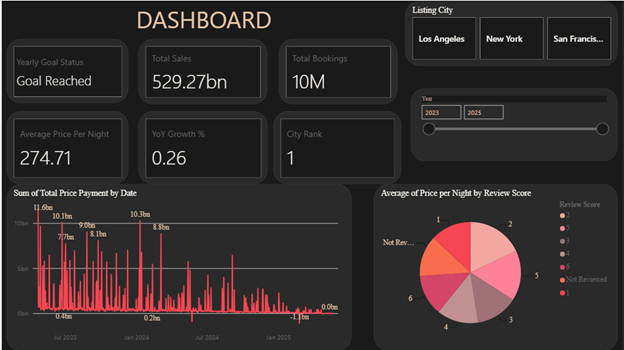

What the dashboard file says about the page in this screenshot:
{"tool":"powerbi","page":{"name":"Page 1","canvas":[1280,720],"ordinal":0},"visuals":[{"type":"cardVisual","fields":{"Data":["DimDate.Booking Price Tiers"]},"box":[9.5,79,251.3,132],"z":0},{"type":"cardVisual","fields":{"Data":["Measure.Total Sales"]},"box":[281.4,79,265.5,134.4],"z":1},{"type":"cardVisual","fields":{"Data":["Measure.Total Bookings"]},"box":[570.6,79,245,134.4],"z":2},{"type":"advancedSlicerVisual","fields":{"Values":["DimListings.Listing City"]},"box":[831.4,0,437.8,134.4],"z":3},{"type":"lineChart","fields":{"Category":["DimDate.Date"],"Y":["Sum(FactBookings.Total Price Payment)"]},"box":[9.5,377.8,711.3,343],"z":4},{"type":"pieChart","fields":{"Category":["FactBookings.Review Score"],"Y":["Avg(FactBookings.Price per Night)"]},"box":[766.6,377.8,502.6,343],"z":5},{"type":"cardVisual","fields":{"Data":["Measure.Average Price Per Night"]},"box":[9.5,227.6,251,150],"z":6},{"type":"cardVisual","fields":{"Data":["Measure.YoY Growth %"]},"box":[281.4,227.6,266,150],"z":7},{"type":"cardVisual","fields":{"Data":["Measure.City Rank"]},"box":[559.5,227.6,264,150.2],"z":8},{"type":"slicer","fields":{"Values":["DimDate.Year"]},"box":[842.5,180.2,426.8,150.2],"z":9},{"type":"textbox","box":[9.5,0,814,80.6],"z":10}]}

Visuals, with their boxes in screenshot pixels (x1, y1, x2, y2), scaled from the page's 1280x720 canvas onto the 624x350 screenshot:
cardVisual - DimDate.Booking Price Tiers: <region>5, 38, 127, 103</region>
cardVisual - Measure.Total Sales: <region>137, 38, 267, 104</region>
cardVisual - Measure.Total Bookings: <region>278, 38, 398, 104</region>
advancedSlicerVisual - DimListings.Listing City: <region>405, 0, 619, 65</region>
lineChart - DimDate.Date x Sum(FactBookings.Total Price Payment): <region>5, 184, 351, 349</region>
pieChart - FactBookings.Review Score x Avg(FactBookings.Price per Night): <region>374, 184, 619, 349</region>
cardVisual - Measure.Average Price Per Night: <region>5, 111, 127, 184</region>
cardVisual - Measure.YoY Growth %: <region>137, 111, 267, 184</region>
cardVisual - Measure.City Rank: <region>273, 111, 401, 184</region>
slicer - DimDate.Year: <region>411, 88, 619, 161</region>
textbox: <region>5, 0, 401, 39</region>
